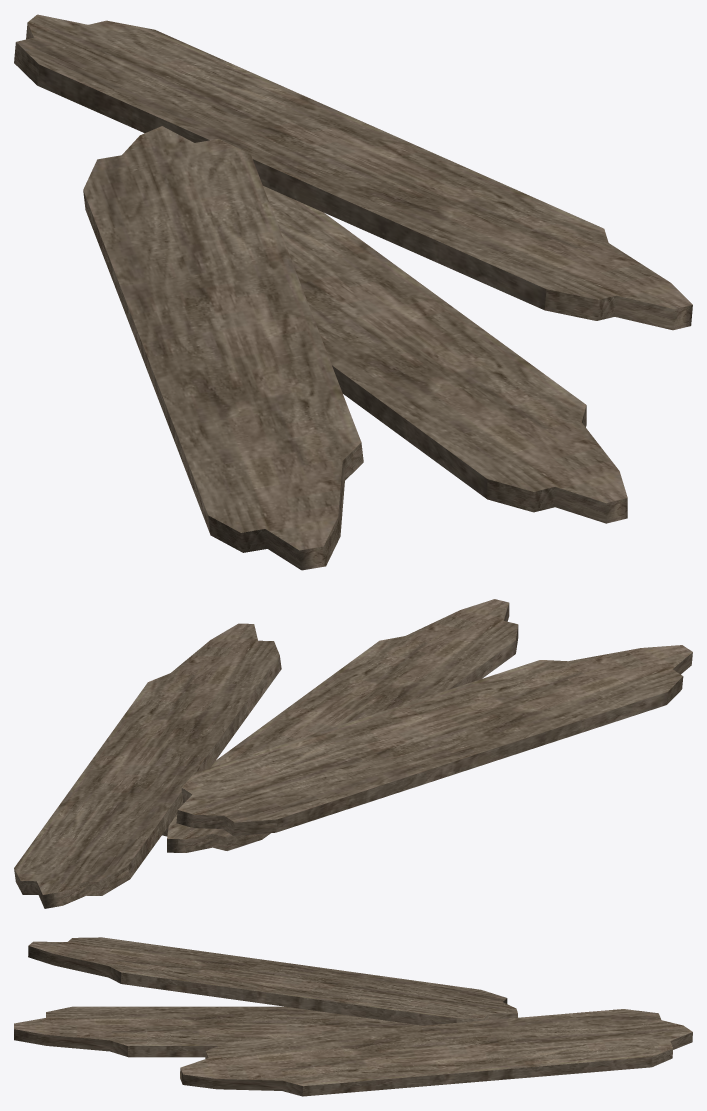
File: Maderas rotas.fbx
The picture shows the model from 3 angles, top to bottom: view 1: azimuth 30°, elevation 25°; view 2: azimuth 150°, elevation 25°; view 3: azimuth 270°, elevation 25°; orthographic projection. The views are drawn at different scales.
Parts seen in each view (by area): view 1: pCube67; view 2: pCube67; view 3: pCube67.
Boxes of the visible parts, x1=… form: pCube67: x1=14, y1=14, x2=692, y2=570; pCube67: x1=14, y1=599, x2=692, y2=908; pCube67: x1=14, y1=937, x2=692, y2=1096.
Size of the model in its own units: 12.53 by 1.15 by 23.46.
Materials: 1 (1 with a texture image).
